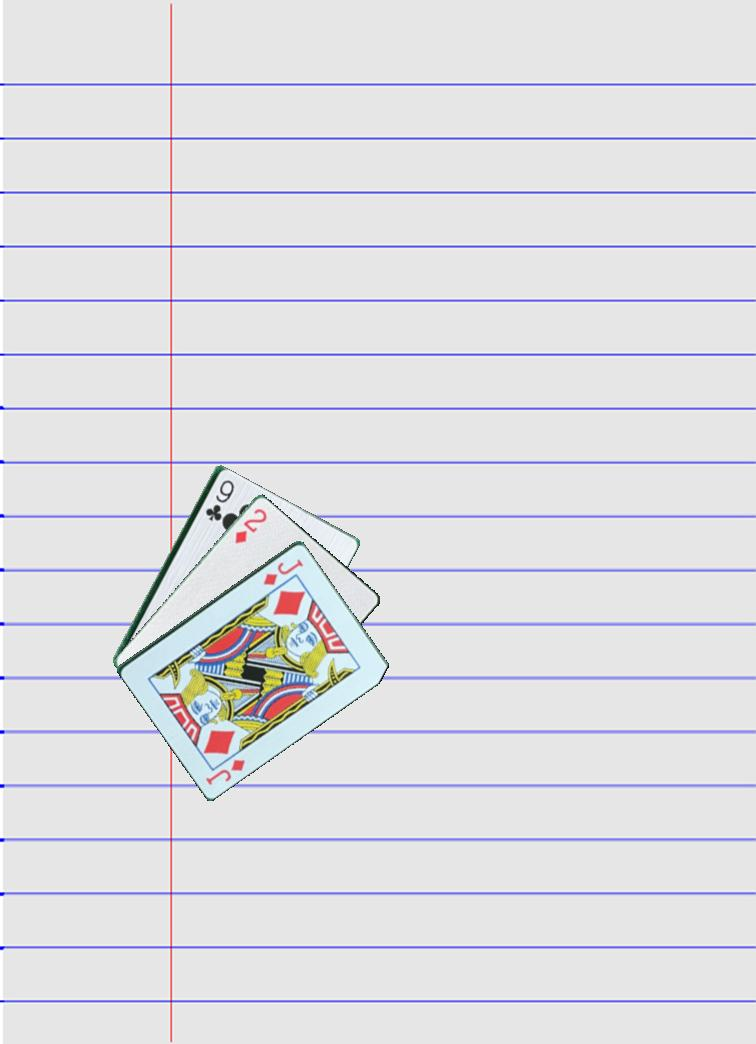2d: (231, 500, 275, 547)
9c: (202, 476, 236, 524)
jd: (260, 555, 306, 588), (202, 755, 248, 788)
